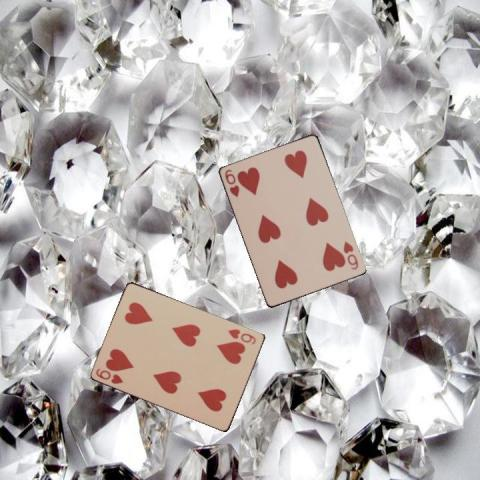6h: (226, 326, 258, 346), (93, 366, 125, 386), (341, 238, 360, 271), (222, 166, 241, 198)
